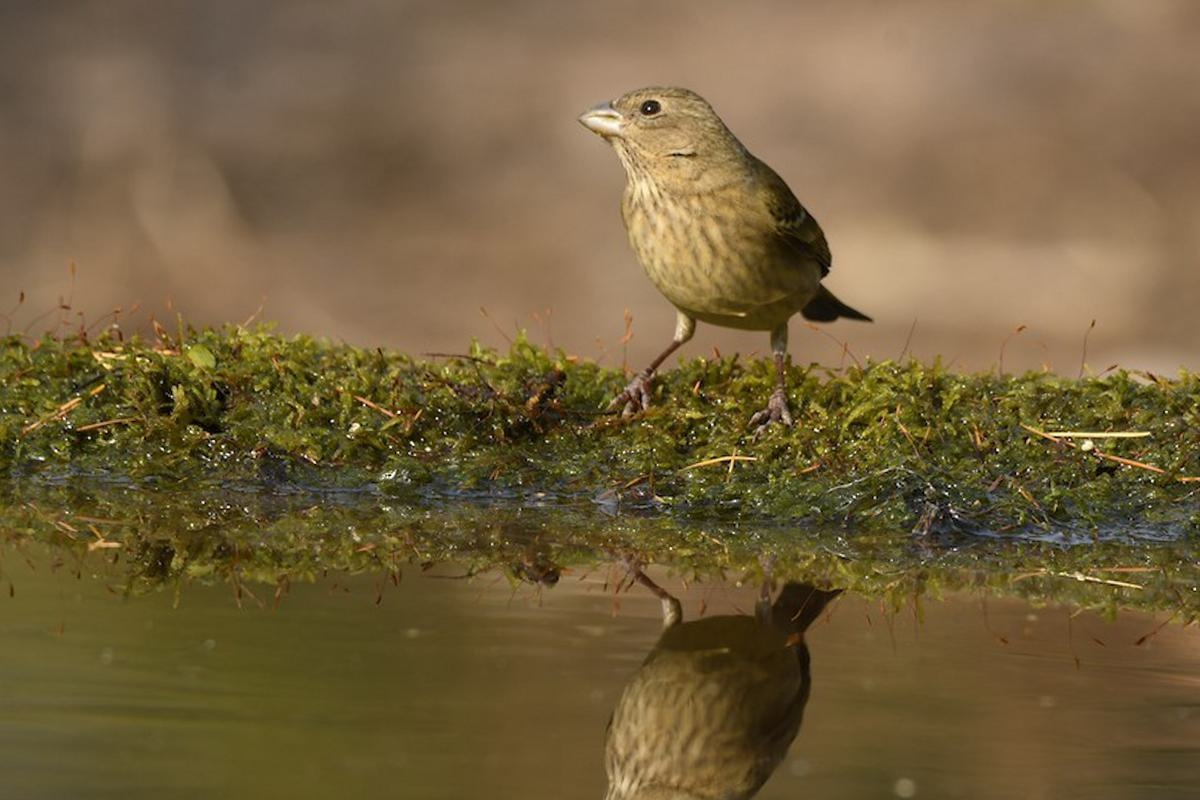rosefinch: (564, 48, 878, 383)
